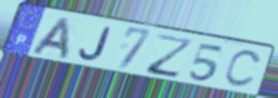5: (187, 41, 227, 83)
7: (111, 26, 153, 74)
A: (29, 16, 71, 62)
C: (222, 49, 264, 90)
J: (77, 25, 113, 63)
Z: (144, 32, 196, 81)
